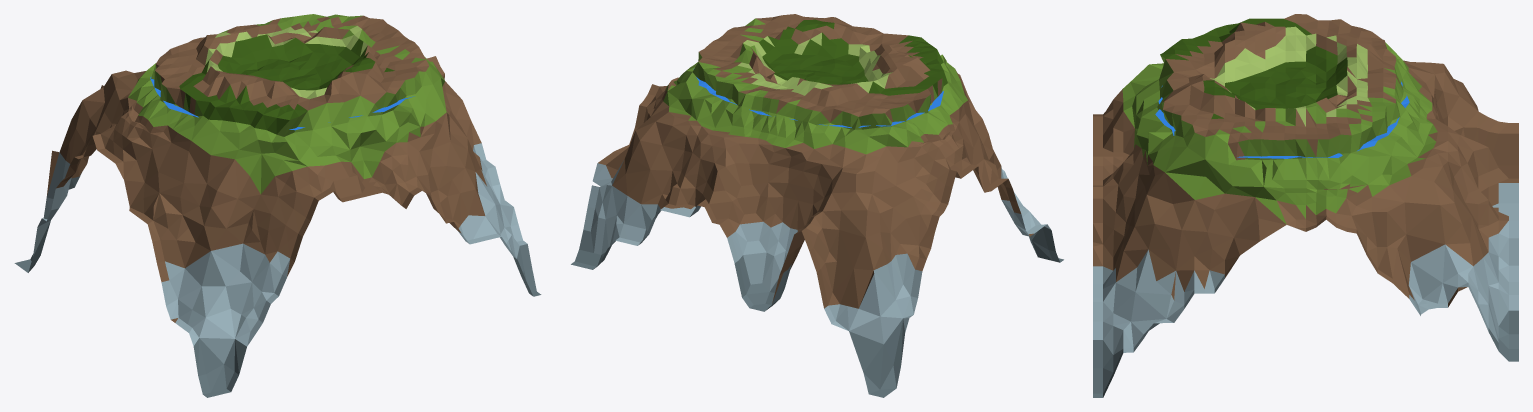
3 views of the same model, side by side, from view 1: azimuth 30°, elevation 25°; view 2: azimuth 150°, elevation 25°; view 3: azimuth 270°, elevation 25° (orthographic). The views are drawn at different scales.
Visible parts, largest first — view 1: Plane_0; view 2: Plane_0, Plane.001_1; view 3: Plane_0, Plane.001_1.
Part boxes in pixels (x1,y1,x2,y2): Plane_0: (14,14,541,397); Plane_0: (571,14,1063,397); Plane.001_1: (693,68,943,127); Plane_0: (1093,14,1518,397); Plane.001_1: (1155,81,1409,158).
Size of the model in its own units: 0.1344 by 0.09 by 0.1265.
Materials: 2 (2 with a texture image).
